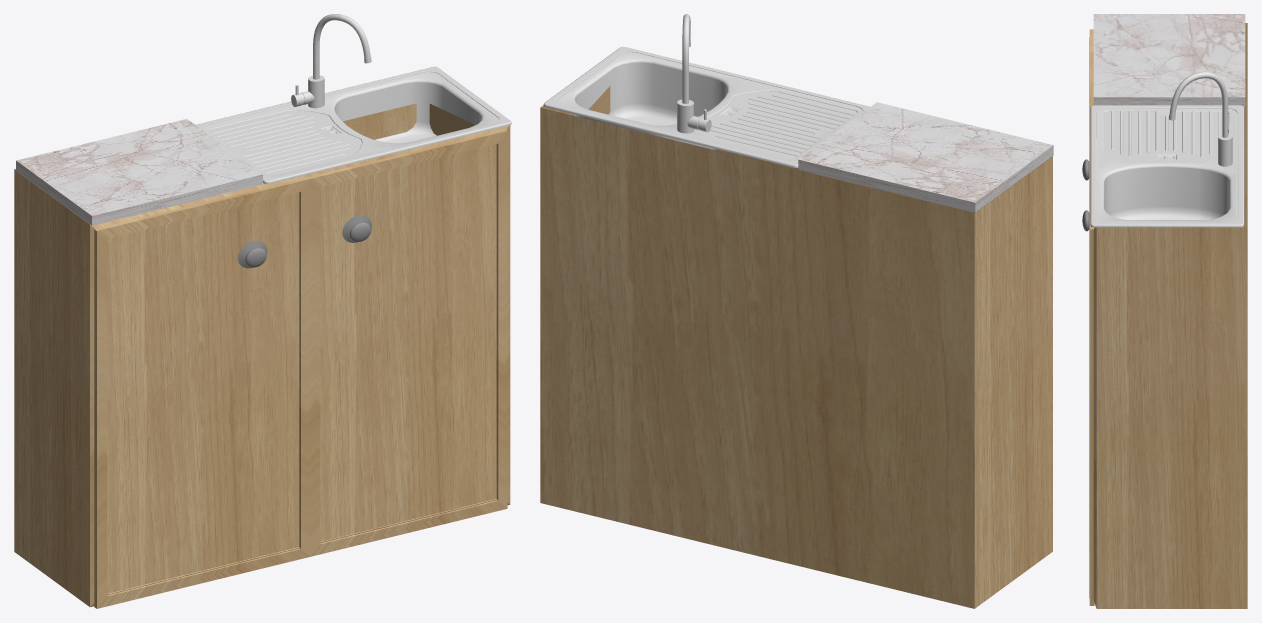
File: sinks.FBX
The picture shows the model from 3 angles, left to right: view 1: azimuth 30°, elevation 25°; view 2: azimuth 150°, elevation 25°; view 3: azimuth 270°, elevation 25°; orthographic projection. The views are drawn at different scales.
Visible parts, largest first — view 1: body_cabinet, Telo drezu, top, handles, Line02; view 2: body_cabinet, Telo drezu, top, Line02; view 3: body_cabinet, Telo drezu, top, Line02, ChamferCyl01, handles.
Boxes of the visible parts, left/top/right/bottom form: body_cabinet: left=14, top=103, right=510, bottom=608; Telo drezu: left=195, top=66, right=511, bottom=183; top: left=16, top=119, right=262, bottom=225; handles: left=238, top=215, right=371, bottom=268; Line02: left=313, top=14, right=371, bottom=79; body_cabinet: left=540, top=86, right=1052, bottom=608; Telo drezu: left=543, top=46, right=870, bottom=167; top: left=798, top=102, right=1053, bottom=212; Line02: left=682, top=14, right=690, bottom=103; body_cabinet: left=1089, top=23, right=1247, bottom=608; Telo drezu: left=1090, top=105, right=1244, bottom=227; top: left=1093, top=14, right=1245, bottom=106; Line02: left=1169, top=71, right=1228, bottom=137; ChamferCyl01: left=1218, top=133, right=1232, bottom=166; handles: left=1082, top=159, right=1089, bottom=231.
Bounding box in the file's own units: 3.12 × 3.41 × 1.07.
3 materials, 2 textured.
